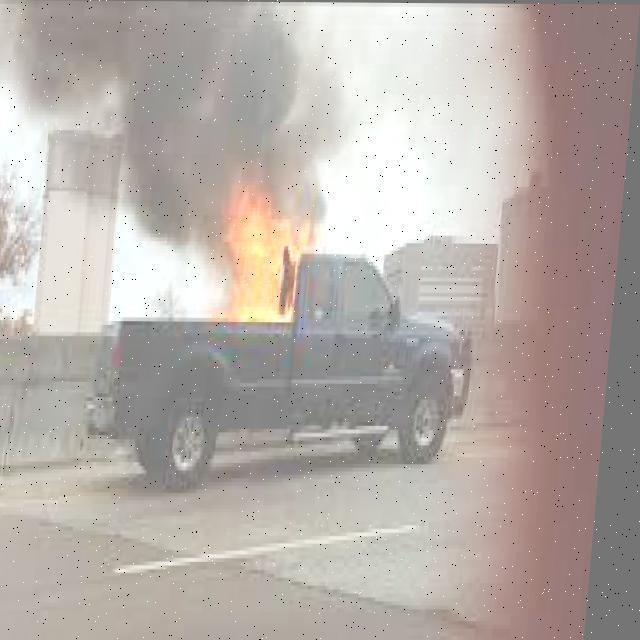Fire: (198, 162, 334, 348)
